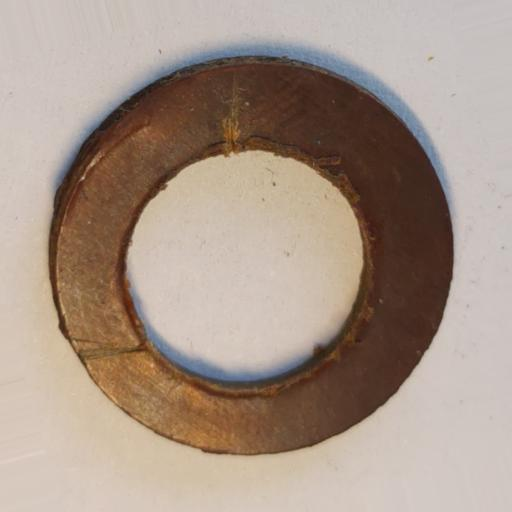defect: (216, 76, 244, 156), (69, 332, 152, 358)
